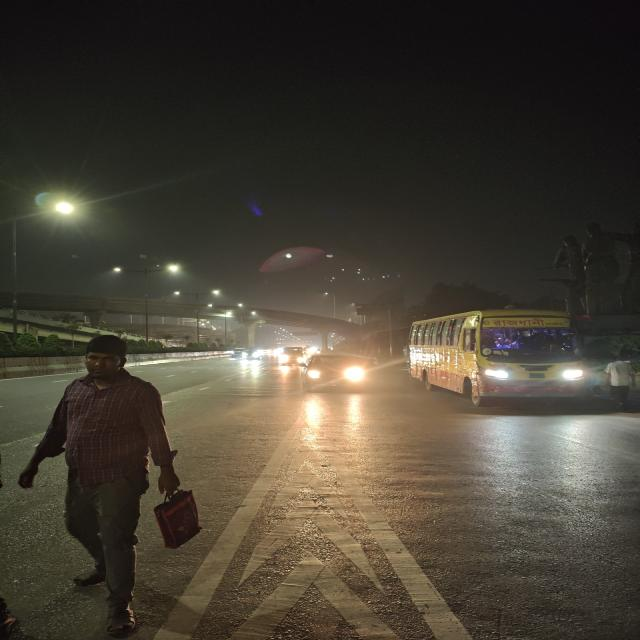bus: (401, 307, 590, 407)
car: (296, 349, 373, 393)
pedestrian: (10, 348, 197, 640), (601, 352, 640, 413)
